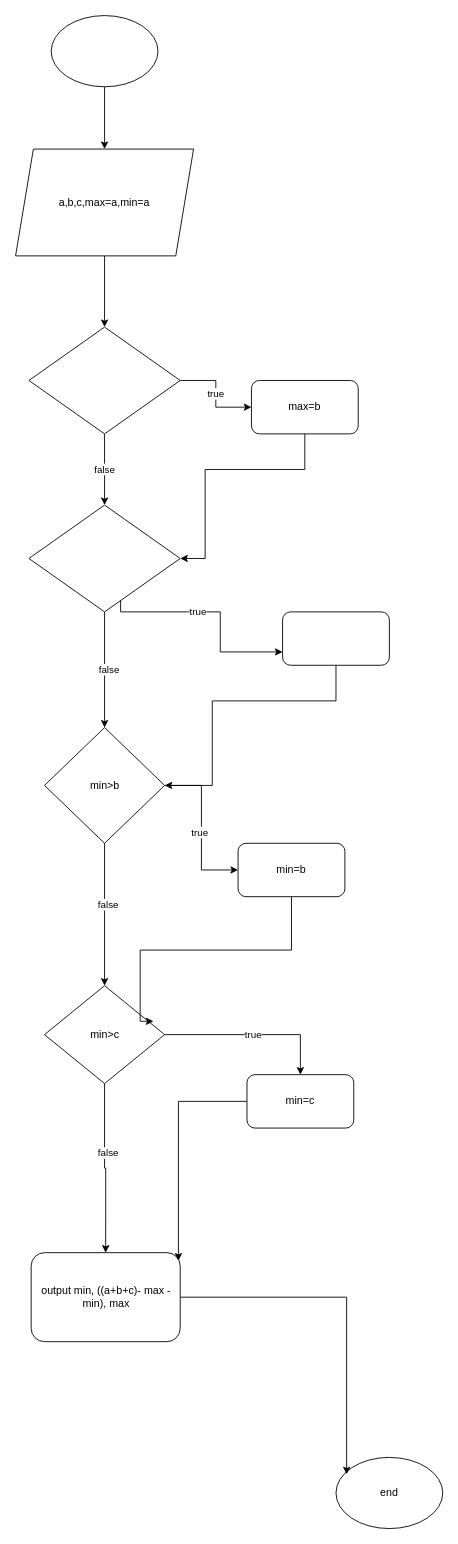
This 458x1544 diagram has some shape labels left out. Here are the shapes that lost their labels. From the top down, the centre of each, then its label:
At (x=104, y=51): "start".
At (x=104, y=380): "max>b".
At (x=104, y=558): "max>c".
At (x=335, y=638): "max=c".
